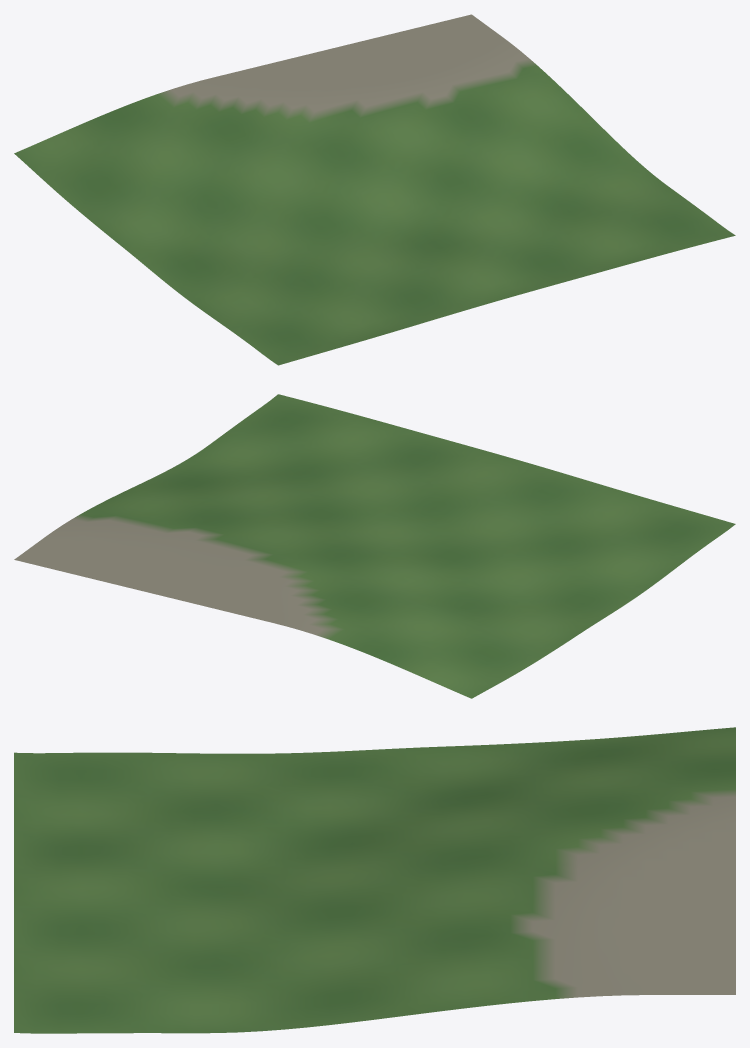
Rendered from chunk_10_11.glb.
3 views of the same model, one above another, from view 1: azimuth 30°, elevation 25°; view 2: azimuth 150°, elevation 25°; view 3: azimuth 270°, elevation 25° (orthographic). The views are drawn at different scales.
Bounding box in the file's own units: 512 × 50 × 512.
